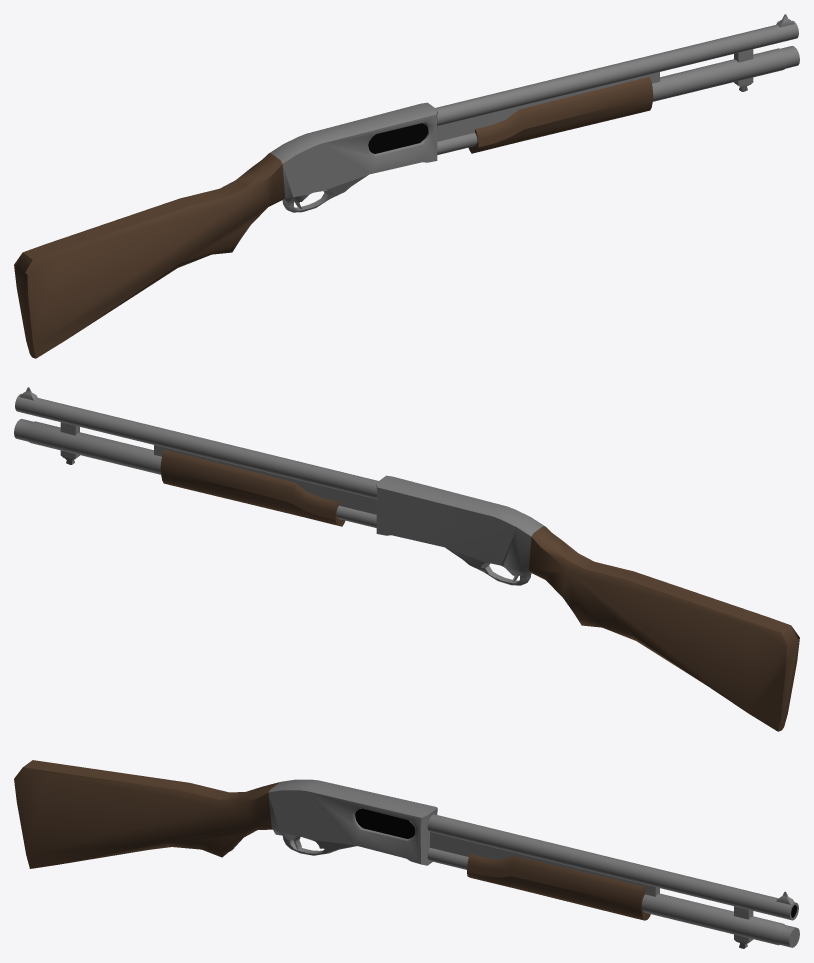
The model's file is Shotgun.fbx.
The picture shows the model from 3 angles, top to bottom: view 1: azimuth 30°, elevation 25°; view 2: azimuth 150°, elevation 25°; view 3: azimuth 330°, elevation 25°; orthographic projection.
Parts seen in each view (by area): view 1: Shotgun, PumpHandle; view 2: Shotgun, PumpHandle; view 3: Shotgun, PumpHandle.
Part boxes in pixels (box(x1,y1,x2,y2)): Shotgun: box(14, 14, 799, 358); PumpHandle: box(468, 76, 653, 153); Shotgun: box(14, 387, 799, 731); PumpHandle: box(160, 449, 345, 526); Shotgun: box(14, 760, 799, 948); PumpHandle: box(467, 854, 650, 920).
Bounding box in the file's own units: 487 × 95.83 × 17.93.
